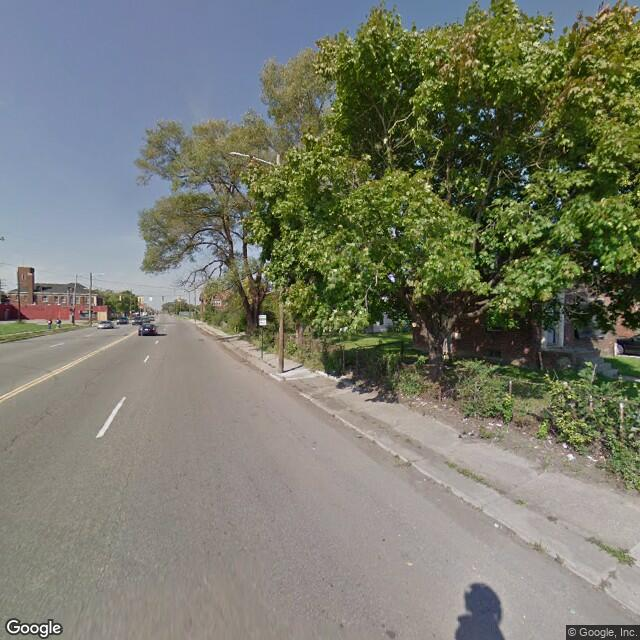litter: (586, 452, 596, 463), (566, 452, 576, 461), (493, 523, 500, 528), (496, 422, 501, 426)
